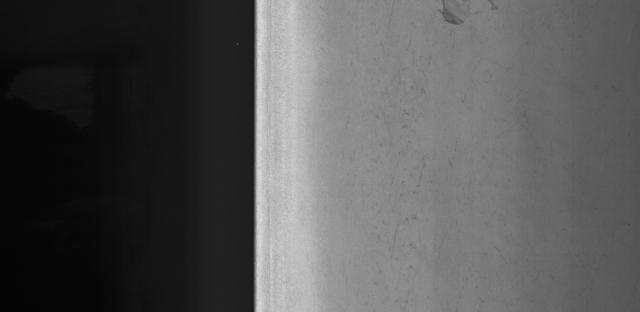silk_spot: (366, 60, 512, 292)
water_spot: (428, 1, 512, 38)
